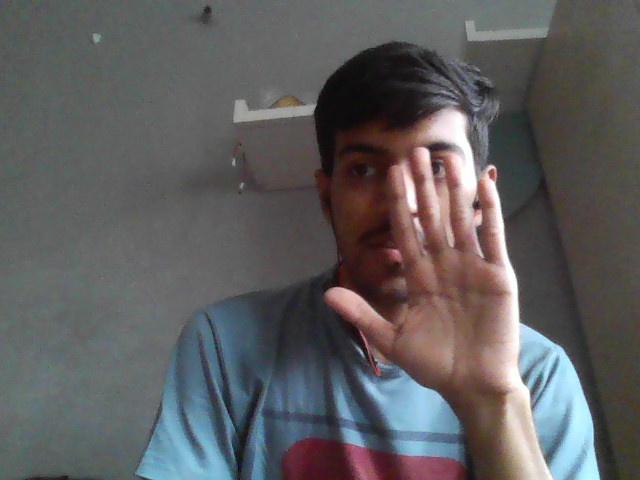Hello: (314, 143, 539, 400)
